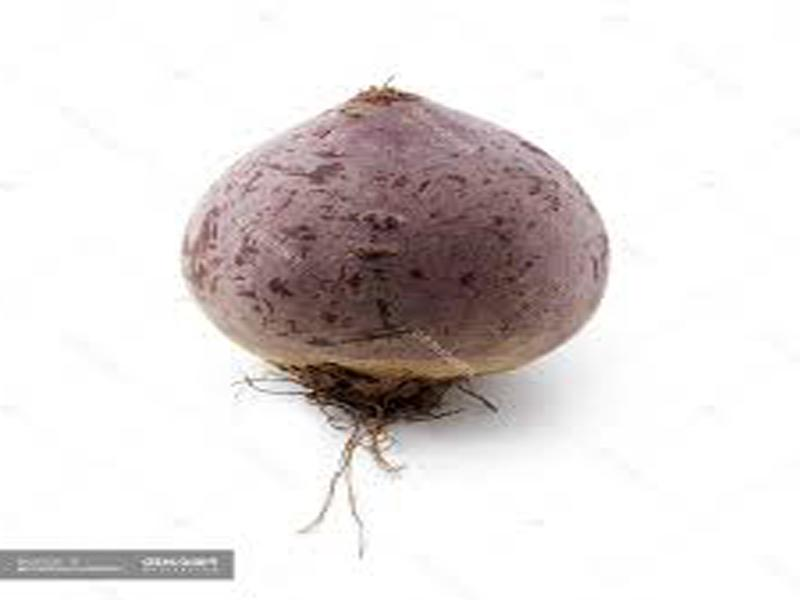Beet: (177, 83, 611, 560)
